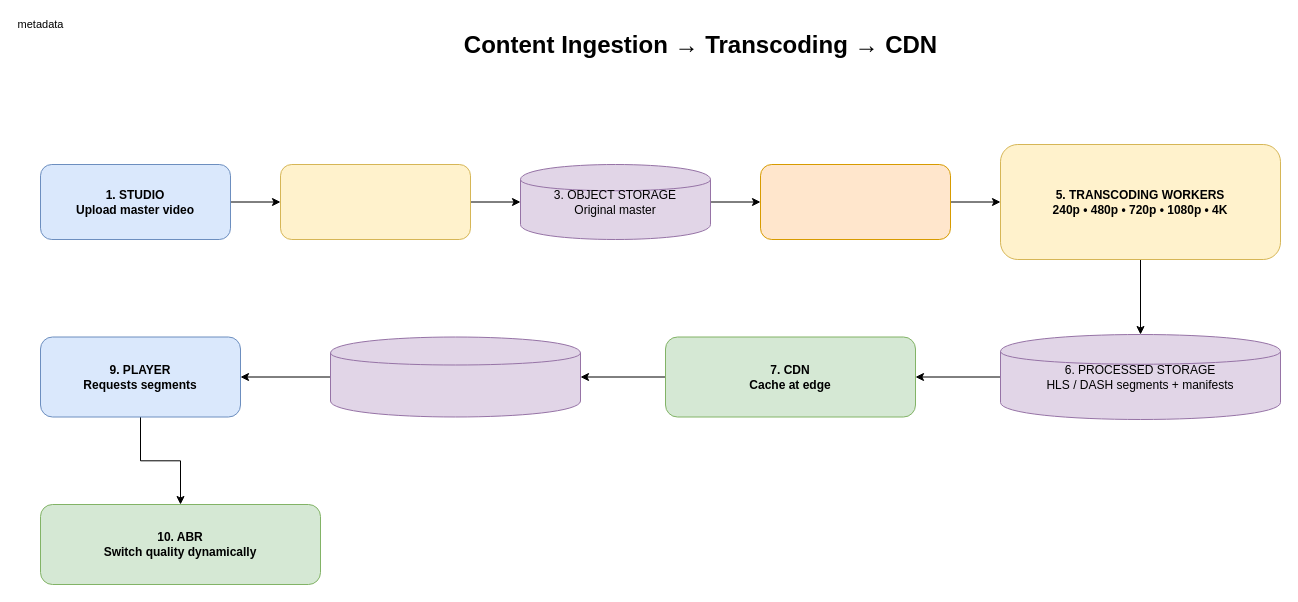
Image size: 1298x602. Some labels were removed from this diagram. The shapes that lost their labels are listed below. From the top down, each one's centre as x and y in pixels, then its label:
At (375,202): "2. UPLOAD SERVICE Validate + register".
At (855,202): "4. TRANSCODING QUEUE Async job".
At (455,376): "8. CONTENT DB Metadata + manifest refs".
